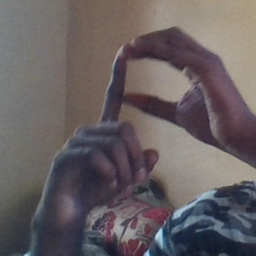P: (58, 25, 226, 187)
